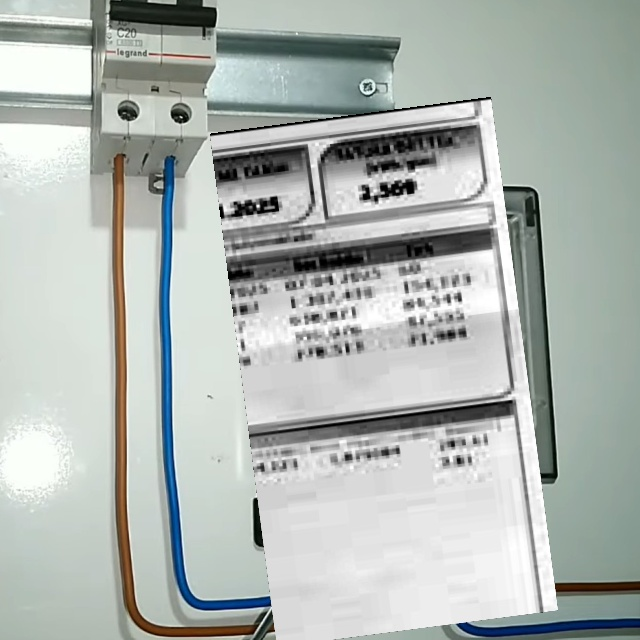electricity-bill: (210, 97, 558, 639)
